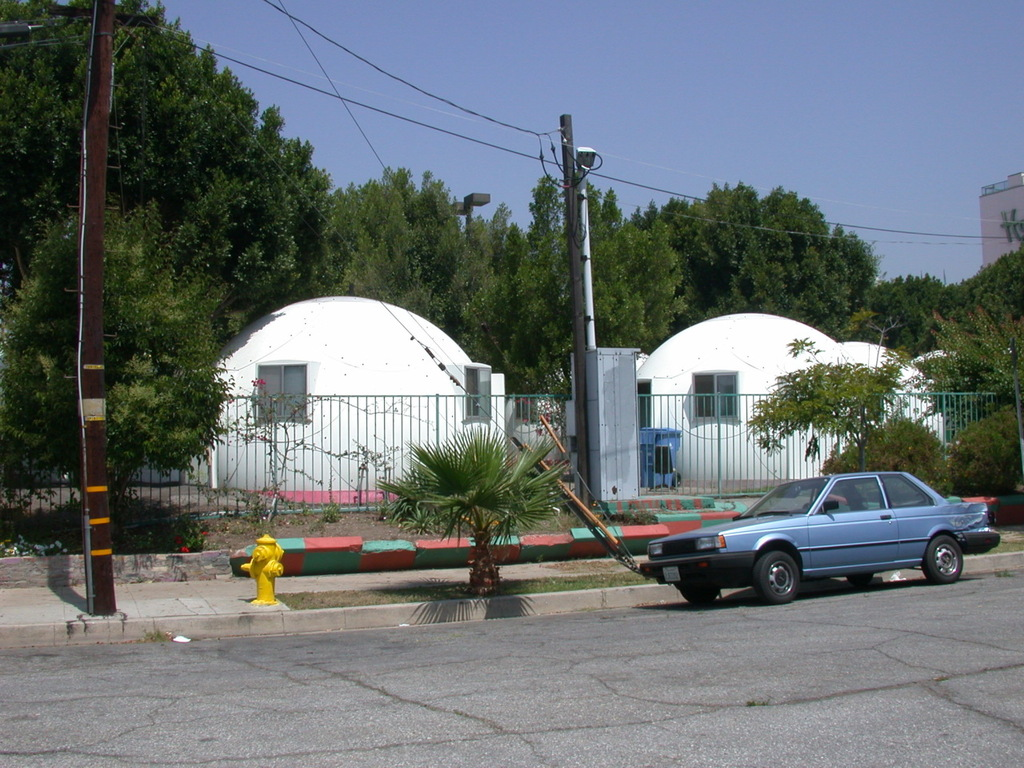Car: (636, 471, 997, 601)
